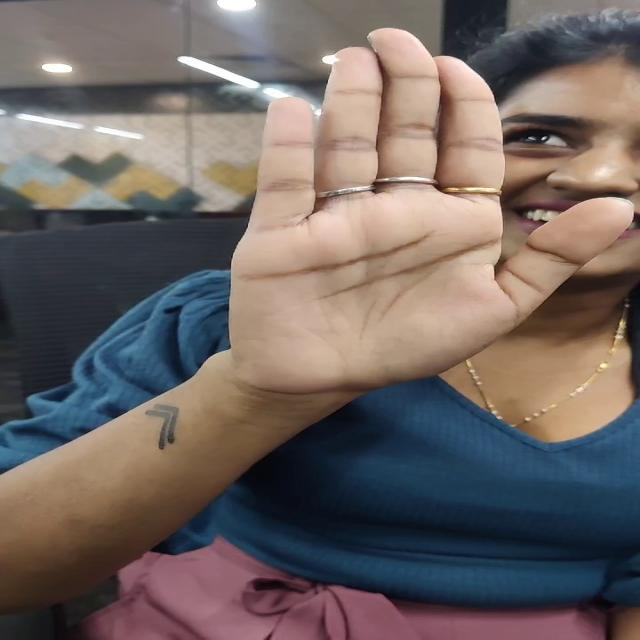no-gloves: (216, 5, 640, 419)
